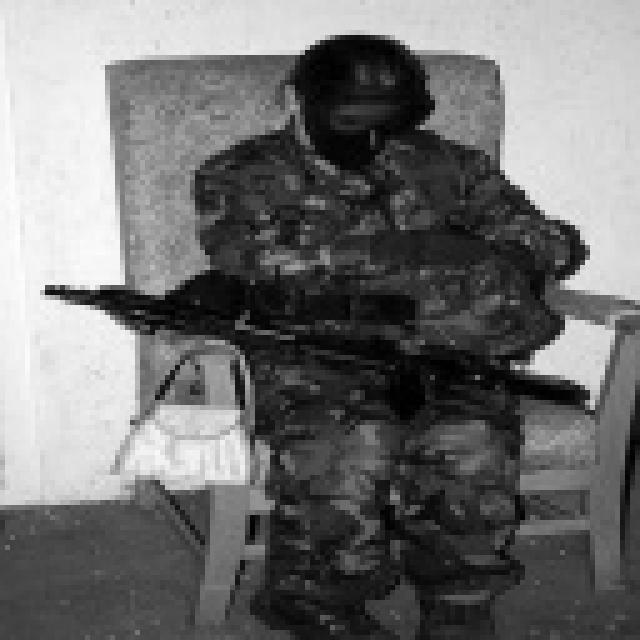Rifle: (33, 246, 611, 472)
